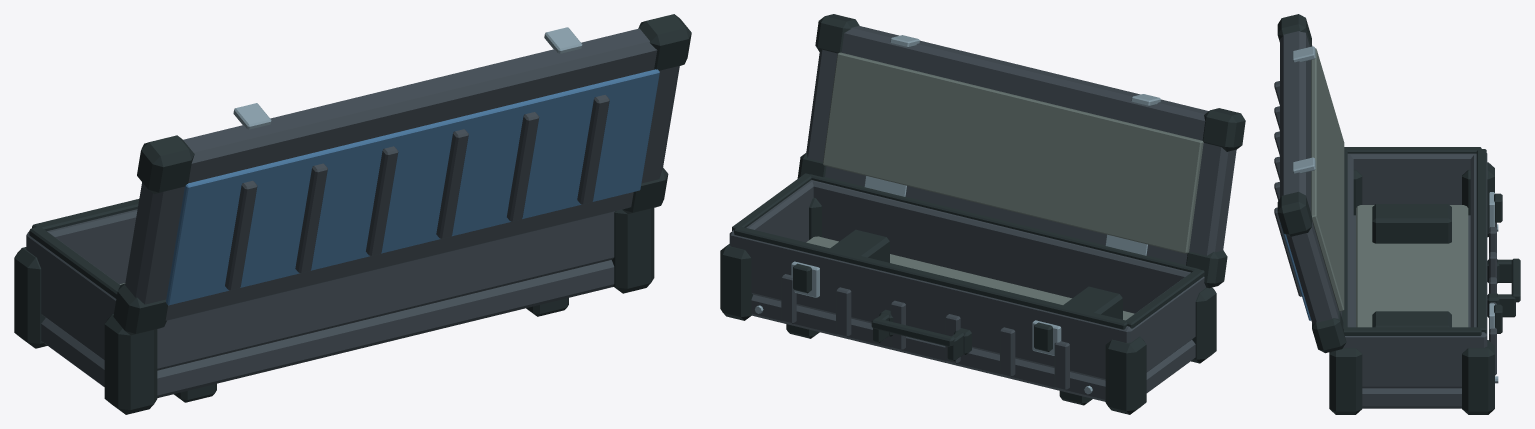
File: long_equipment_case_opened.glb
3 renders of one model, left to right at view 1: azimuth 30°, elevation 25°; view 2: azimuth 150°, elevation 25°; view 3: azimuth 270°, elevation 25°, orthographic. The views are drawn at different scales.
Visible parts, largest first — view 1: moving_lid_inset, moving_lid_shell, body_back_wall, body_floor, moving_lid_rib (×6), corner_guard (×3), moving_lid_corner (×4), body_left_wall, body_front_wall, gasket_side, moving_latch_hook (×2), gasket_front; view 2: moving_lid_inner_pad, moving_lid_shell, body_back_wall, body_front_wall, corner_guard (×4), body_floor, gasket_front, moving_lid_corner (×3), body_reinforcement (×5), body_left_wall, gasket_back, foam_equipment_cradle (×2) (+6 smaller); view 3: interior_lining, moving_lid_shell, moving_lid_inner_pad, body_right_wall, body_left_wall, corner_guard (×4), foam_equipment_cradle (×2), moving_lid_corner (×3), body_floor, gasket_side (×2), gasket_front, body_front_wall (+9 smaller).
Boxes of the visible parts, bbox=[...] form: moving_lid_inset: bbox=[166, 69, 659, 305]; moving_lid_shell: bbox=[125, 28, 679, 320]; body_back_wall: bbox=[157, 211, 614, 370]; body_floor: bbox=[41, 260, 614, 397]; moving_lid_rib (×6): bbox=[225, 95, 609, 290]; corner_guard (×3): bbox=[14, 208, 654, 414]; moving_lid_corner (×4): bbox=[113, 14, 691, 335]; body_left_wall: bbox=[26, 231, 119, 360]; body_front_wall: bbox=[27, 209, 137, 284]; gasket_side: bbox=[29, 227, 120, 298]; moving_latch_hook (×2): bbox=[233, 27, 582, 129]; gasket_front: bbox=[32, 199, 139, 230]; moving_lid_inner_pad: bbox=[823, 52, 1203, 253]; moving_lid_shell: bbox=[806, 26, 1236, 264]; body_back_wall: bbox=[811, 180, 1190, 313]; body_front_wall: bbox=[731, 232, 1132, 380]; corner_guard (×4): bbox=[720, 198, 1216, 414]; body_floor: bbox=[751, 294, 1195, 401]; gasket_front: bbox=[734, 227, 1127, 329]; moving_lid_corner (×3): bbox=[815, 14, 1245, 288]; body_reinforcement (×5): bbox=[781, 274, 1069, 390]; body_left_wall: bbox=[1117, 276, 1205, 372]; gasket_back: bbox=[809, 174, 1198, 272]; foam_equipment_cradle (×2): bbox=[830, 229, 1122, 319]; interior_lining: bbox=[1356, 205, 1468, 327]; moving_lid_shell: bbox=[1280, 31, 1341, 324]; moving_lid_inner_pad: bbox=[1311, 48, 1344, 311]; body_right_wall: bbox=[1343, 332, 1487, 388]; body_left_wall: bbox=[1347, 153, 1487, 204]; corner_guard (×4): bbox=[1329, 162, 1494, 414]; foam_equipment_cradle (×2): bbox=[1372, 204, 1451, 327]; moving_lid_corner (×3): bbox=[1277, 14, 1346, 353]; body_floor: bbox=[1353, 215, 1470, 408]; gasket_side (×2): bbox=[1343, 147, 1481, 335]; gasket_front: bbox=[1476, 149, 1486, 333]; body_front_wall: bbox=[1470, 153, 1487, 347].
Bounding box in the file's own units: 1.79 × 0.9789 × 0.9661.
